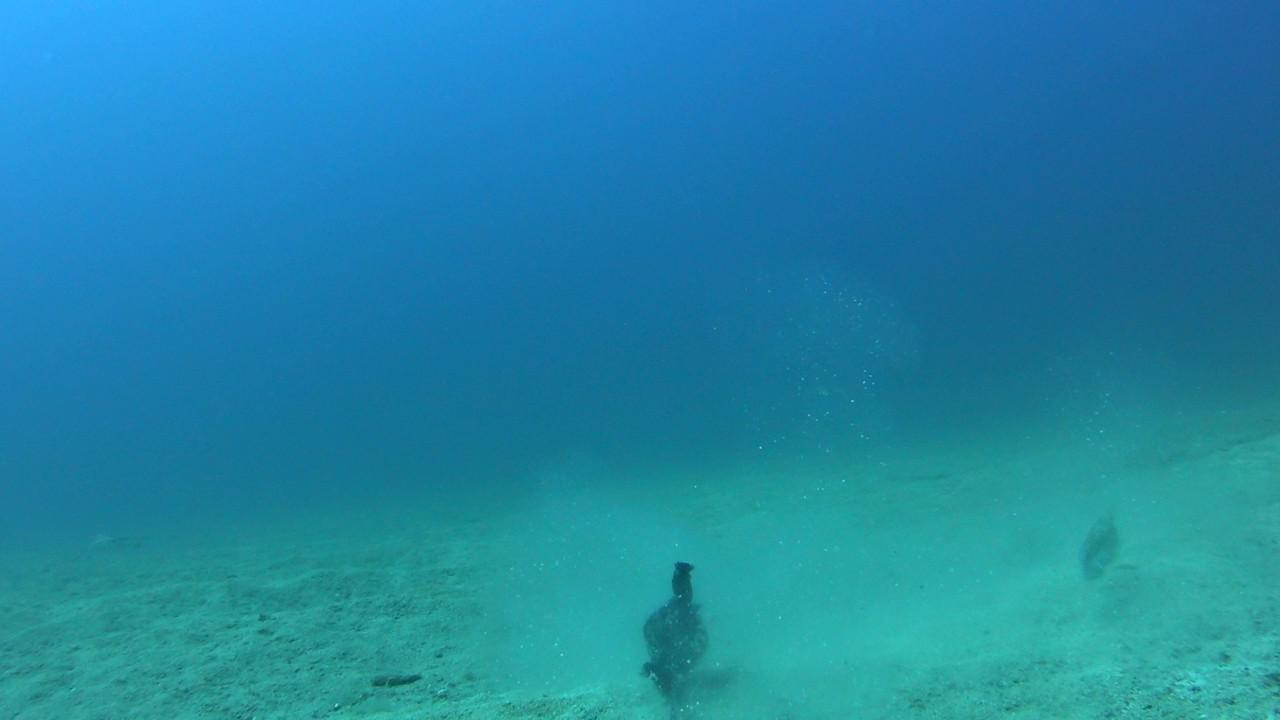myliobatis: (79, 514, 165, 554)
